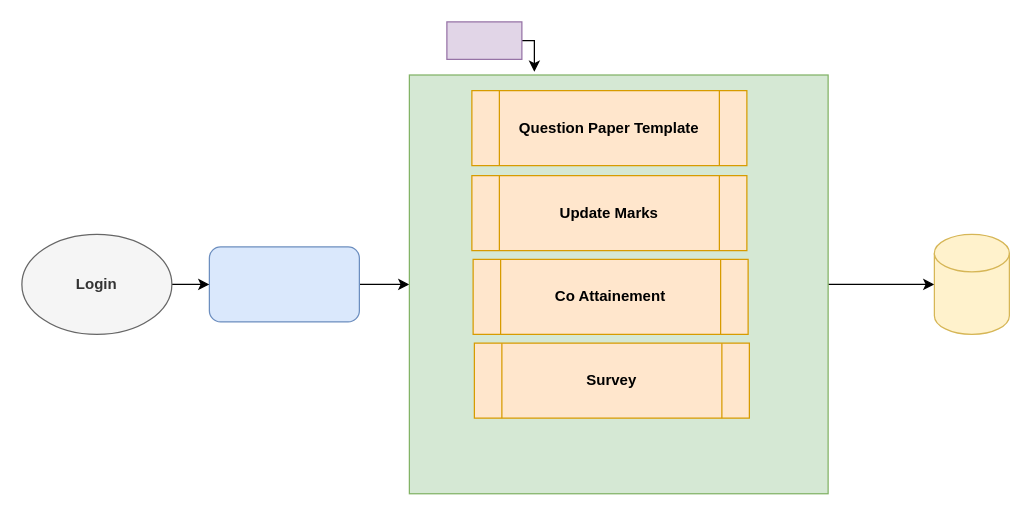
The diagram is 1031 pixels wide and 516 high, and some of its shapes have lost their labels. The shapes that lost their labels are listed below. From the top down, each one's centre as x and y in pixels, then its label:
At (x=484, y=40): "Navigation".
At (x=283, y=284): "Faculty CoPo Dashboard".
At (x=971, y=283): "DB".
